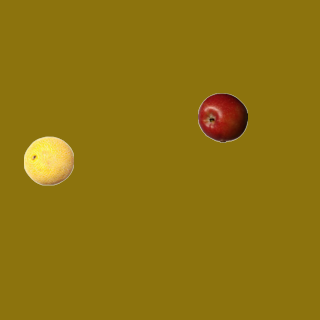Apple Braeburn: (197, 92, 247, 142)
Cantaloupe 1: (23, 135, 73, 185)
